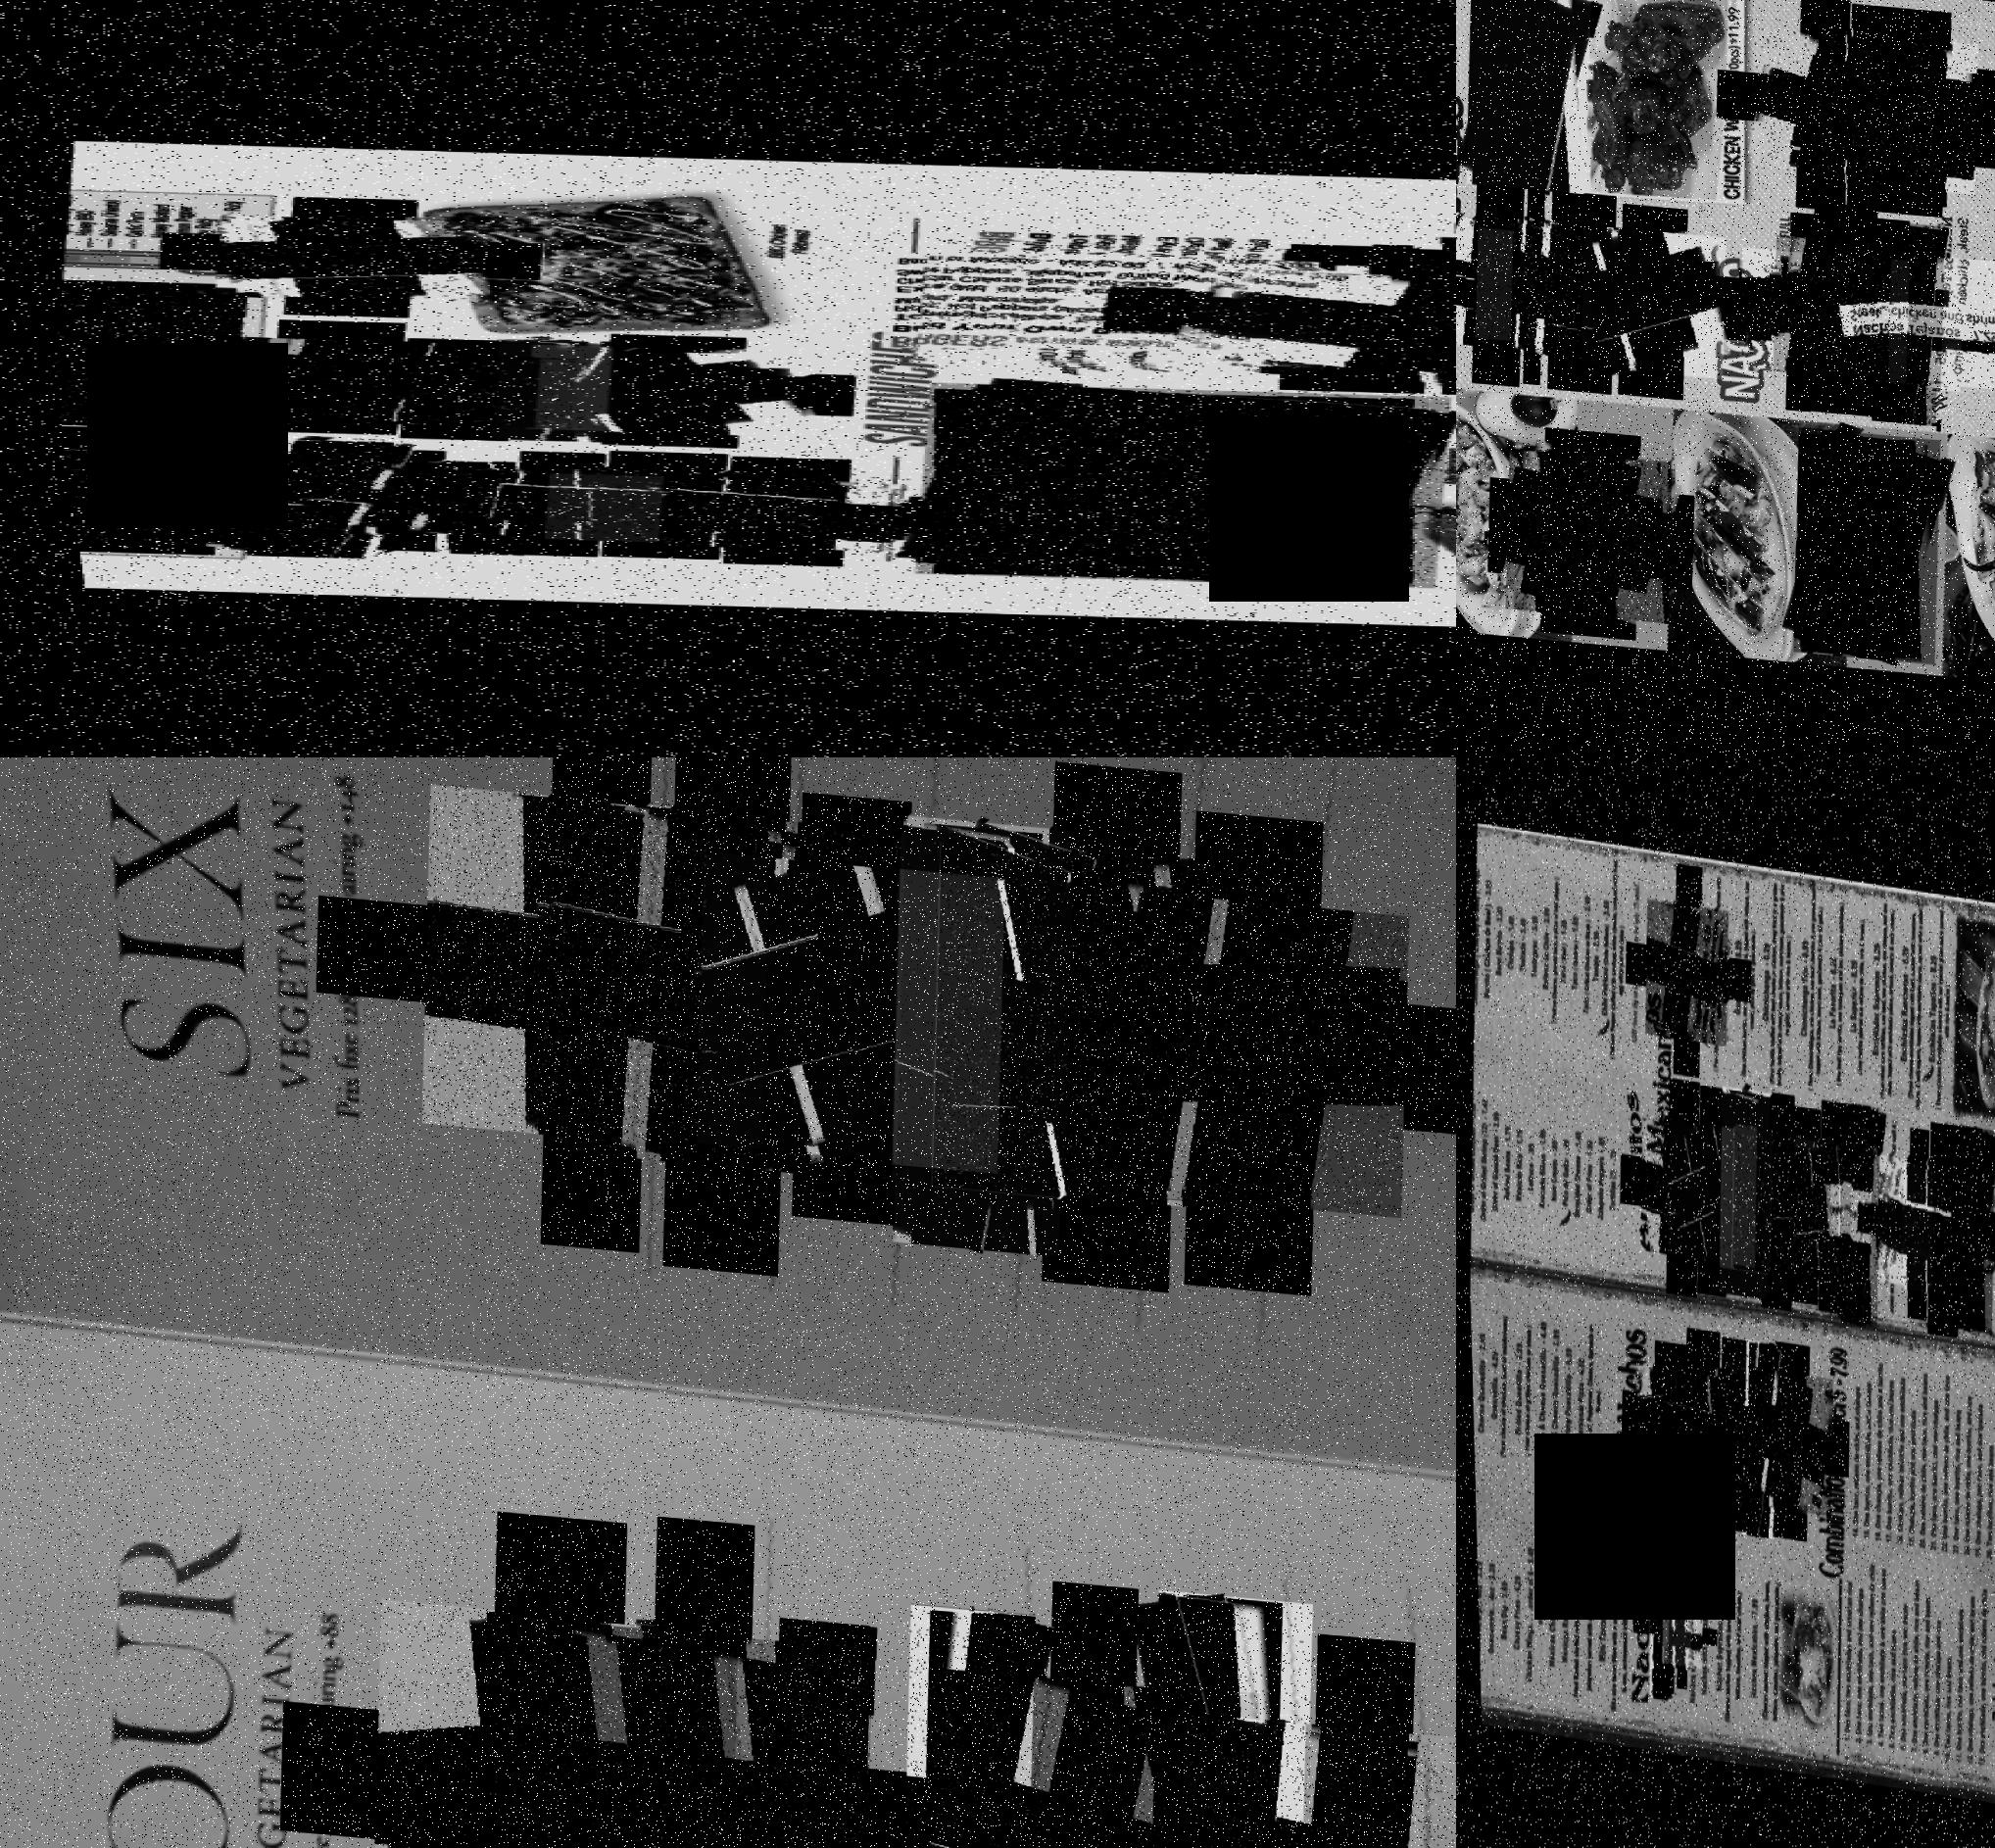Menu-Items: (530, 794, 918, 1177), (916, 831, 1300, 1207), (405, 777, 782, 1149), (876, 377, 1456, 584), (1081, 881, 1416, 1210), (685, 841, 1011, 1163), (344, 1592, 739, 1848), (872, 805, 1086, 1250), (500, 1613, 871, 1848), (895, 1655, 1260, 1848), (893, 236, 1340, 372), (1110, 1582, 1322, 1848), (867, 1592, 1041, 1848), (1778, 421, 1946, 661), (1185, 1707, 1456, 1848), (31, 278, 254, 429), (740, 1612, 878, 1848), (1493, 442, 1674, 621), (1164, 261, 1456, 370), (1811, 23, 1981, 189), (509, 342, 813, 435), (1456, 0, 1601, 191), (195, 210, 492, 301), (1569, 223, 1727, 376), (1743, 24, 1898, 176), (215, 435, 405, 558), (49, 433, 254, 546), (1501, 216, 1653, 363), (1764, 231, 1915, 379), (191, 336, 461, 417), (638, 468, 904, 549), (521, 462, 784, 544), (1819, 245, 1964, 388), (318, 349, 573, 426), (424, 466, 664, 539), (1731, 243, 1861, 374), (1877, 243, 1995, 386), (466, 337, 622, 442), (288, 464, 518, 534), (1456, 209, 1564, 349), (1468, 223, 1592, 344), (1727, 1120, 1823, 1274), (1665, 1111, 1759, 1266), (1712, 1078, 1776, 1295), (1635, 1109, 1727, 1259), (1642, 892, 1733, 1043), (1743, 1361, 1833, 1511), (1371, 228, 1456, 381), (1788, 1128, 1877, 1274), (1656, 1356, 1743, 1499), (1847, 1140, 1932, 1283), (1899, 1153, 1985, 1295), (1892, 216, 1948, 422), (407, 457, 527, 553), (1835, 1097, 1886, 1323), (1943, 1118, 1995, 1328), (1762, 1133, 1844, 1267), (1755, 873, 1800, 1092), (1790, 878, 1833, 1106), (1889, 894, 1932, 1118), (1879, 1154, 1955, 1281), (1628, 1358, 1703, 1479), (1919, 894, 1959, 1118), (1734, 1335, 1778, 1535), (1726, 873, 1764, 1088), (1698, 869, 1736, 1081), (1865, 895, 1903, 1107), (1712, 1333, 1746, 1528), (1840, 895, 1873, 1083), (1821, 892, 1851, 1097), (1642, 1591, 1689, 1667), (1642, 1563, 1668, 1695), (1654, 1591, 1700, 1664)
